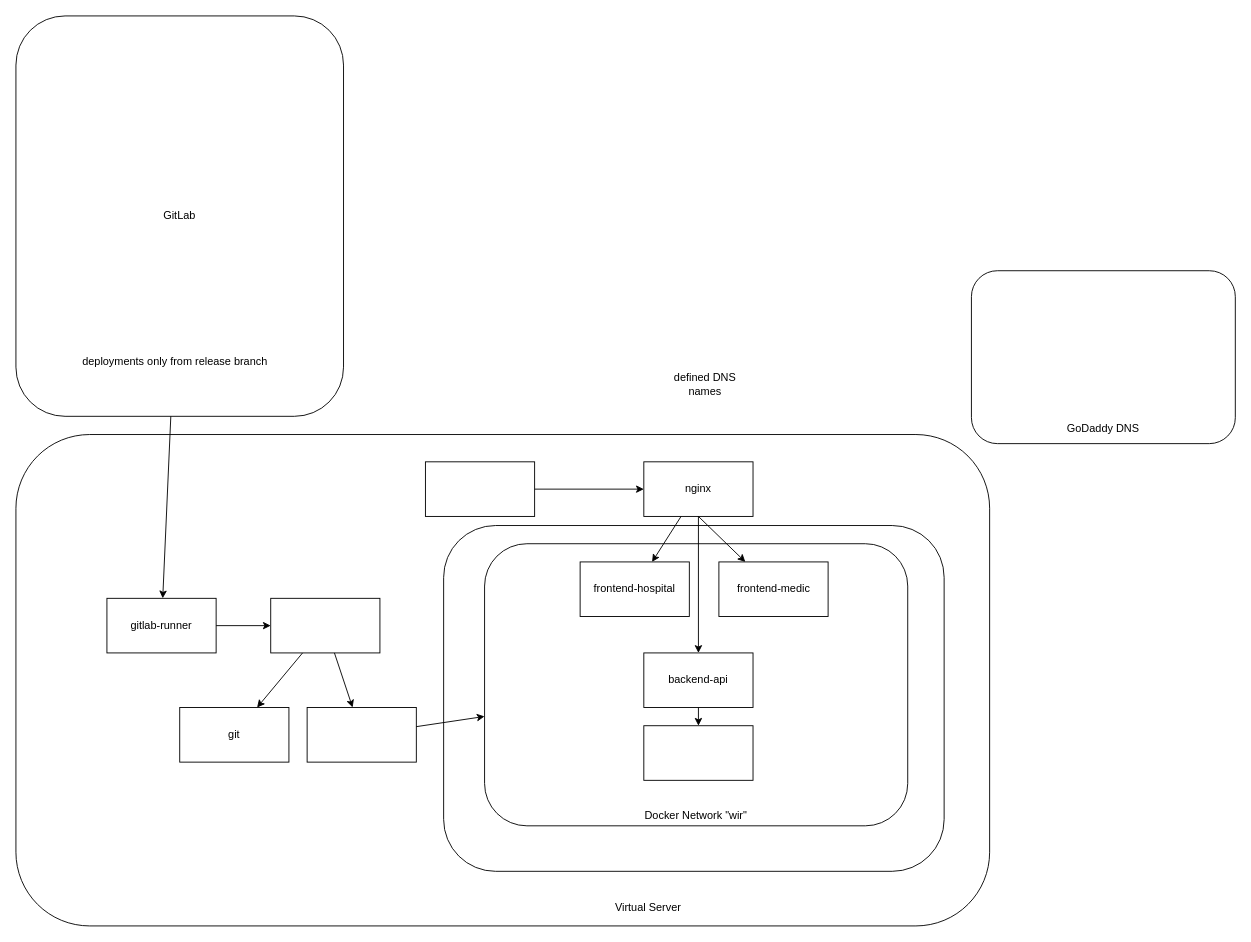
The diagram is 1251 pixels wide and 942 high, and some of its shapes have lost their labels. The shapes that lost their labels are listed below. From the top down, each one's box as (x1, y1, x2, y2) in pixels, then its label:
(425, 461, 535, 516): certbot
(270, 597, 380, 653): deploy.sh
(443, 525, 944, 871): Docker Engine
(306, 707, 416, 762): docker-compose
(643, 725, 753, 780): postgres
